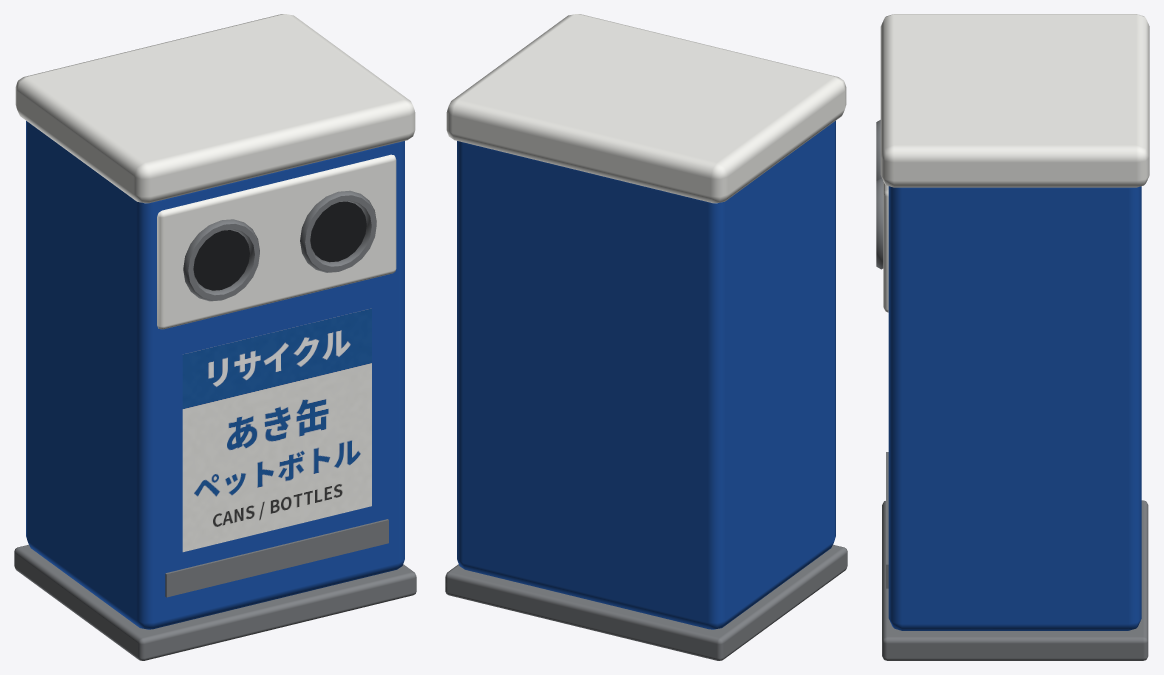
Rendered from vending_recycle_bin.fbx.
The picture shows the model from 3 angles, left to right: view 1: azimuth 30°, elevation 25°; view 2: azimuth 150°, elevation 25°; view 3: azimuth 270°, elevation 25°; orthographic projection. The views are drawn at different scales.
Visible parts, largest first — view 1: vending_recycle_bin; view 2: vending_recycle_bin; view 3: vending_recycle_bin.
Part boxes in pixels (x1,y1,x2,y2): vending_recycle_bin: (14, 14, 416, 660); vending_recycle_bin: (445, 14, 847, 660); vending_recycle_bin: (876, 14, 1149, 660).
Size of the model in its own units: 0.504 by 0.85 by 0.4108.
5 materials, 1 textured.
